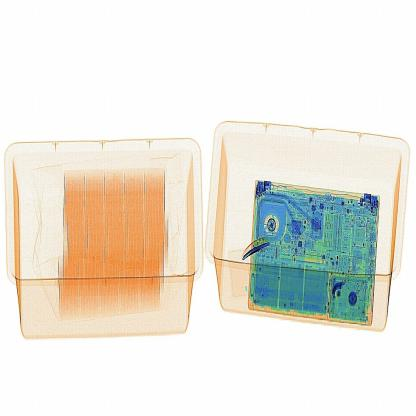pliers: (238, 233, 276, 261)
